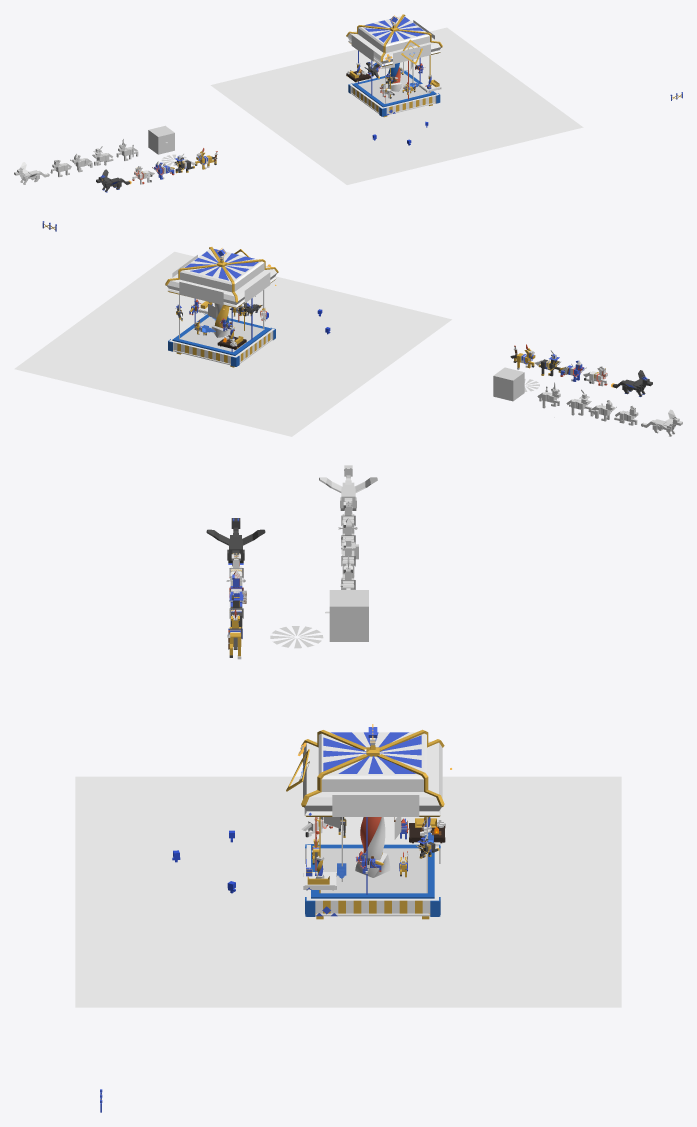
File: Cubespin.glb
3 renders of one model, top to bottom at view 1: azimuth 30°, elevation 25°; view 2: azimuth 150°, elevation 25°; view 3: azimuth 270°, elevation 25°, orthographic. The views are drawn at different scales.
Parts seen in each view (by area): view 1: Plane.023, Cube, Cube.002, Cube.019, Cube.020, horses, Cube.226, Cube.089; view 2: Plane.023, Cube.002, Cube, Cube.019, Cube.020, horses.001, Cube.226, Cube.053, Cube.089, horses.003; view 3: Plane.023, Cube.002, Cube, Cube.020, Cube.019, horses.002, Cube.053.
Boxes of the visible parts, x1=… form: Plane.023: x1=210, y1=27, x2=583, y2=184; Cube: x1=348, y1=70, x2=440, y2=117; Cube.002: x1=346, y1=14, x2=442, y2=66; Cube.019: x1=148, y1=125, x2=174, y2=154; Cube.020: x1=364, y1=17, x2=425, y2=42; horses: x1=393, y1=44, x2=430, y2=64; Cube.226: x1=96, y1=169, x2=131, y2=192; Cube.089: x1=14, y1=162, x2=49, y2=184; Plane.023: x1=14, y1=251, x2=451, y2=436; Cube.002: x1=165, y1=247, x2=278, y2=308; Cube: x1=168, y1=313, x2=275, y2=367; Cube.019: x1=493, y1=367, x2=524, y2=401; Cube.020: x1=185, y1=249, x2=258, y2=280; horses.001: x1=179, y1=282, x2=223, y2=305; Cube.226: x1=611, y1=370, x2=652, y2=396; Cube.053: x1=211, y1=303, x2=230, y2=337; Cube.089: x1=641, y1=409, x2=682, y2=436; horses.003: x1=244, y1=272, x2=270, y2=303; Plane.023: x1=75, y1=776, x2=621, y2=1007; Cube.002: x1=301, y1=729, x2=444, y2=816; Cube: x1=305, y1=844, x2=440, y2=919; Cube.020: x1=323, y1=732, x2=421, y2=773; Cube.019: x1=329, y1=590, x2=368, y2=641; horses.002: x1=332, y1=795, x2=419, y2=816; Cube.053: x1=355, y1=817, x2=390, y2=877.
Size of the model in its own units: 115 by 16.15 by 45.04.
Materials: 31 (5 with a texture image).
